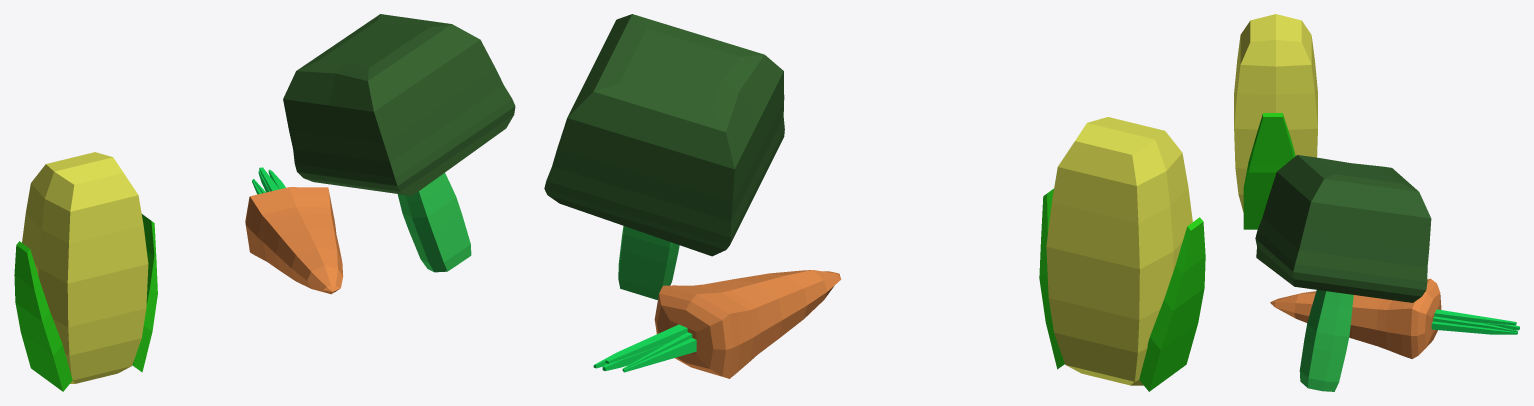
File: vegetable.fbx
3 views of the same model, side by side, from view 1: azimuth 30°, elevation 25°; view 2: azimuth 150°, elevation 25°; view 3: azimuth 270°, elevation 25° (orthographic). The views are drawn at different scales.
Visible parts, largest first — view 1: Brocolli, Corn, Carrot; view 2: Brocolli, Corn, Carrot; view 3: Brocolli, Corn, Carrot.
Part boxes in pixels (x1,y1,x2,y2): Brocolli: [283, 14, 515, 272]; Corn: [14, 152, 157, 391]; Carrot: [245, 167, 343, 294]; Brocolli: [544, 14, 784, 299]; Corn: [1039, 117, 1205, 391]; Carrot: [593, 270, 841, 378]; Brocolli: [1255, 155, 1431, 391]; Corn: [1234, 14, 1317, 229]; Carrot: [1270, 278, 1519, 358].
Bounding box in the file's own units: 605 × 275 × 329.
